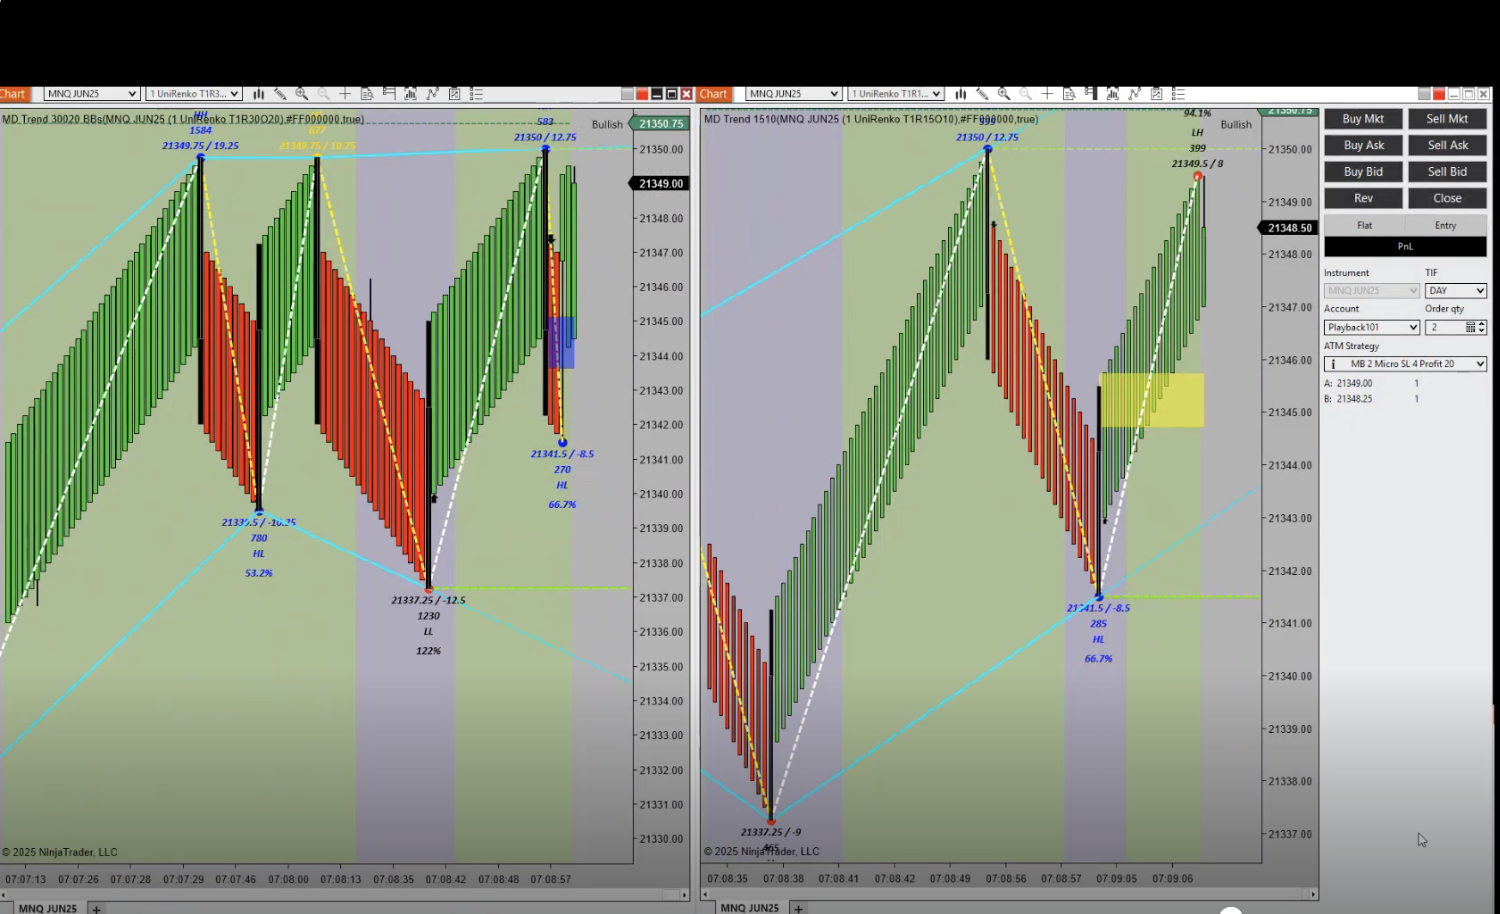candle: (255, 246, 267, 516), (542, 148, 553, 420), (766, 611, 777, 815), (197, 156, 205, 431), (425, 324, 433, 591), (315, 158, 321, 425), (986, 146, 992, 371), (1099, 390, 1105, 598)
